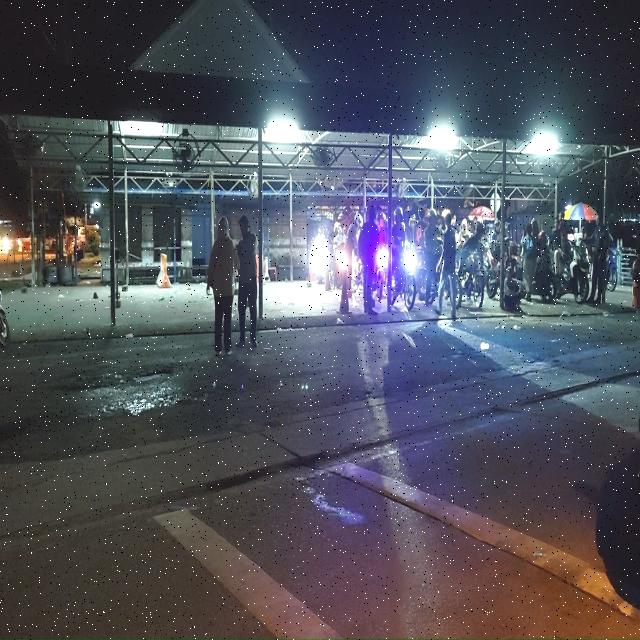Golongan II: (555, 243, 589, 304), (391, 247, 418, 311), (458, 249, 485, 309), (532, 251, 556, 303), (373, 245, 389, 302), (485, 241, 500, 299), (606, 248, 618, 292)
